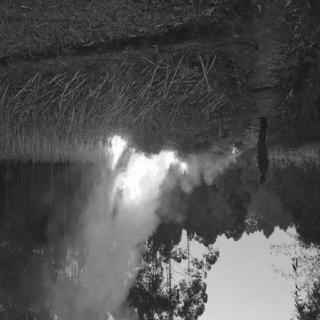Fire: (104, 137, 192, 195)
